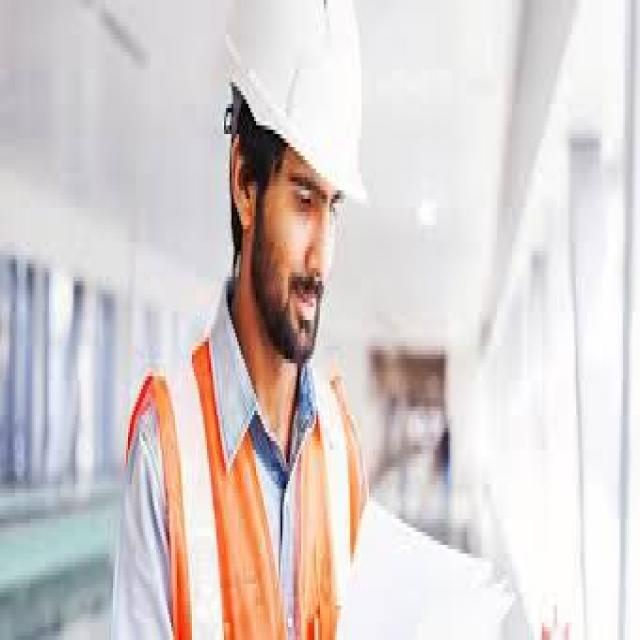Reflective-Jacket: (131, 315, 363, 640)
Safety-Helmet: (222, 0, 377, 208)
